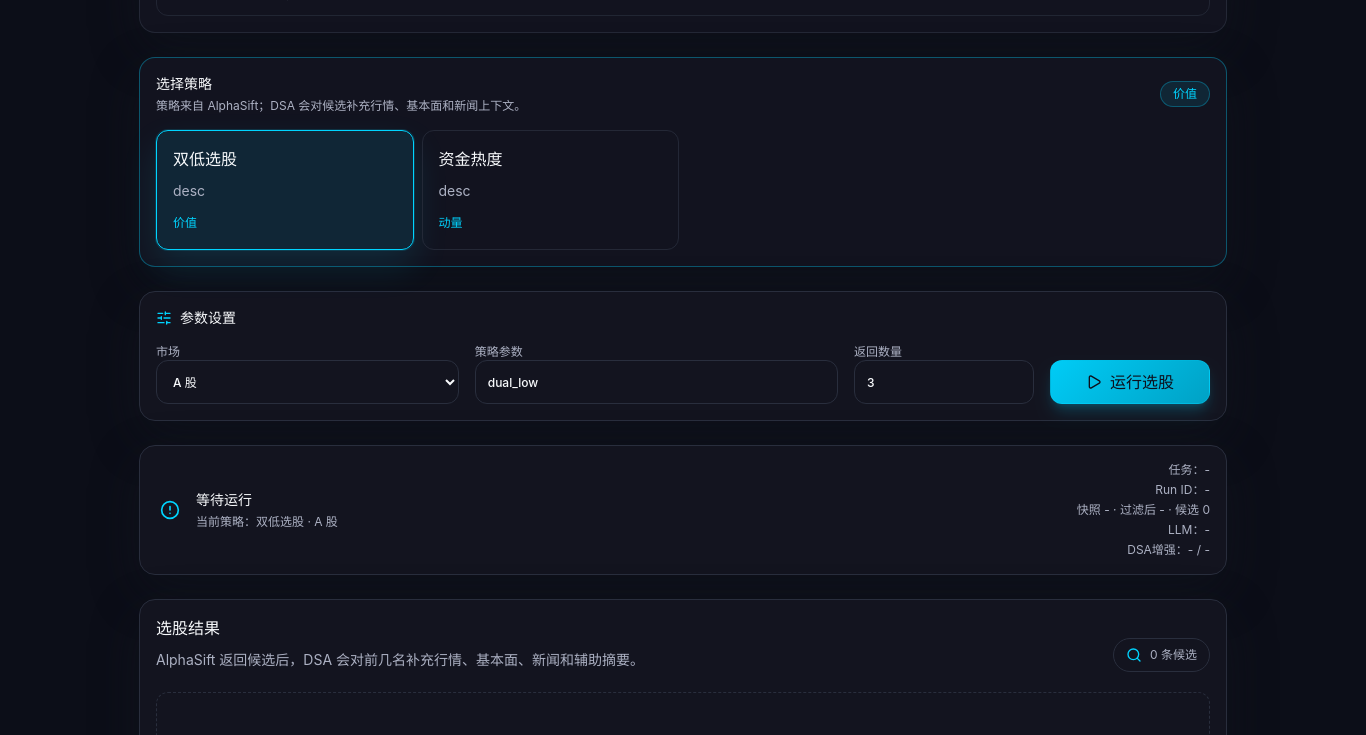
Test case: StockScreeningPage › clears previous screening candidates when strategy changes
This screenshot has width=1366, height=735.
(page scrolled)
Click the button "运行选股" at (1130, 382), box top-left (1050, 360), bottom-right (1210, 404)
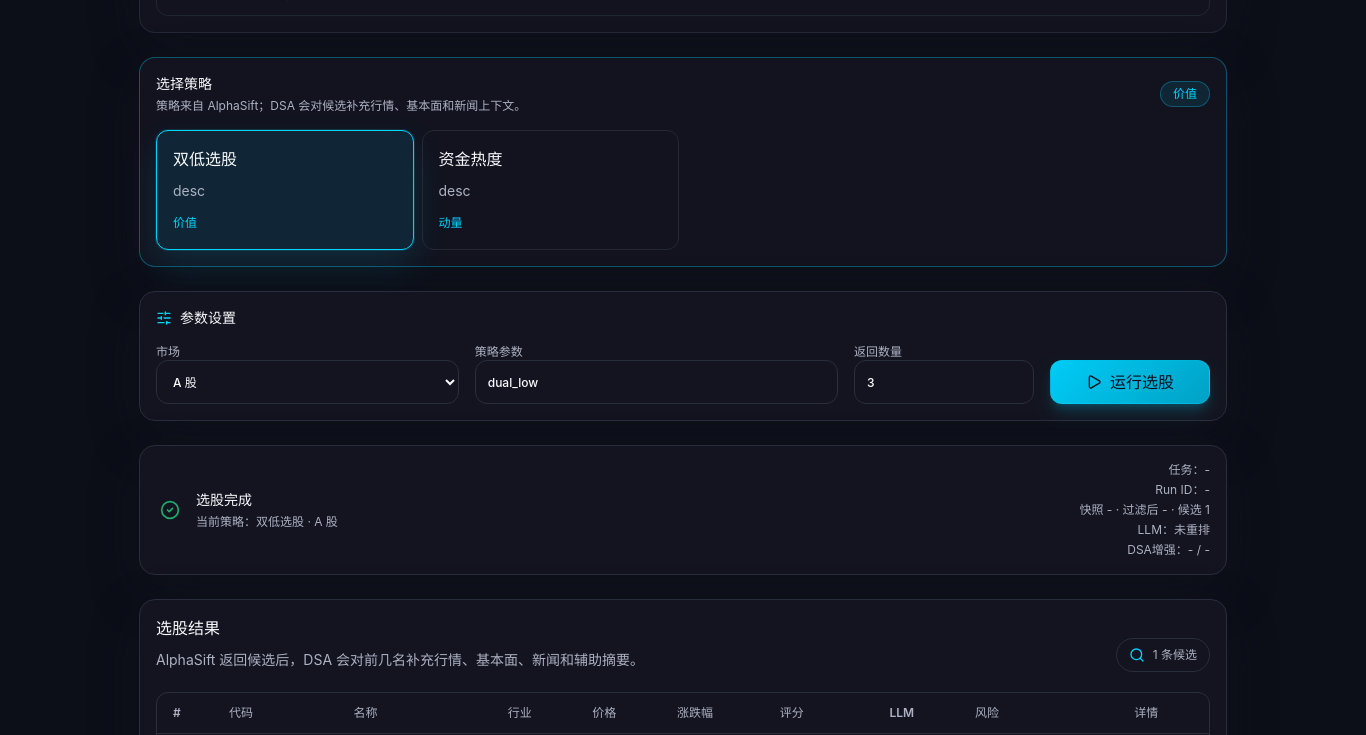
expect the heading "选股完成" is shown: met, box top-left (196, 491), bottom-right (252, 508)
Click the button "资金热度 desc 动量" at (550, 190), box top-left (422, 130), bottom-right (679, 250)
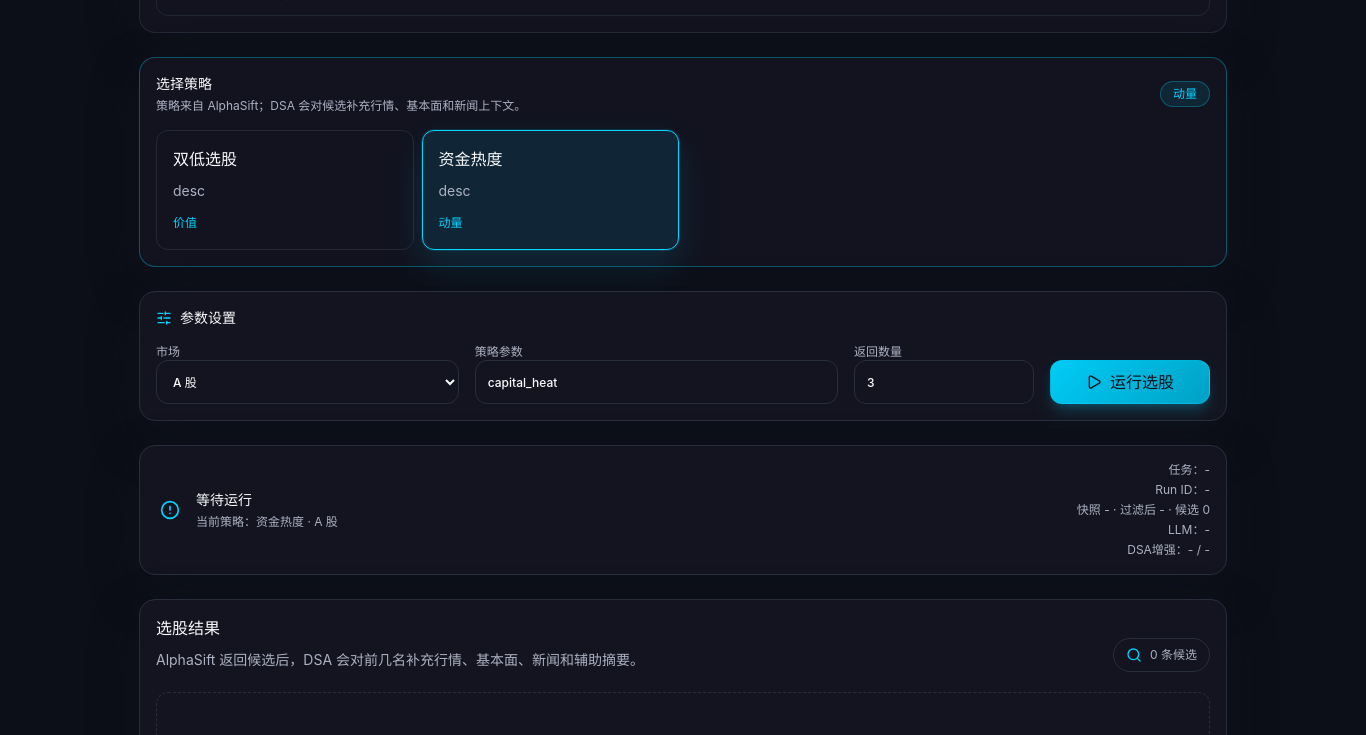
expect the heading "等待运行" is shown: met, box top-left (196, 491), bottom-right (252, 508)
expect the text "当前策略：资金热度 · A 股" is shown: met, box top-left (196, 514), bottom-right (338, 530)
